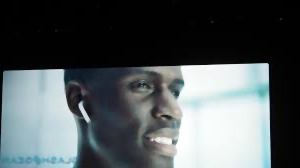earphone: (66, 79, 91, 124)
